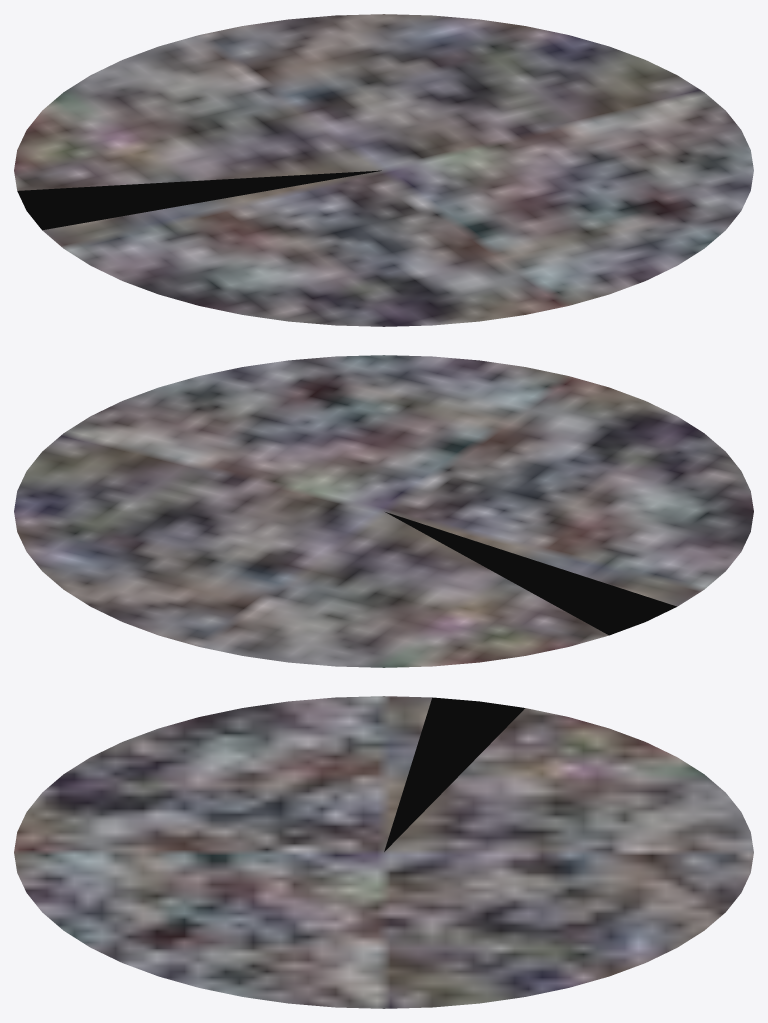
Rendered from original-8-bottom.obj.
3 views of the same model, one above another, from view 1: azimuth 30°, elevation 25°; view 2: azimuth 150°, elevation 25°; view 3: azimuth 270°, elevation 25° (orthographic).
Visible parts, largest first — view 1: group_2/ID2508#ID2508; view 2: group_2/ID2508#ID2508; view 3: group_2/ID2508#ID2508.
Boxes of the visible parts, bbox=[...] form: group_2/ID2508#ID2508: bbox=[14, 14, 753, 326]; group_2/ID2508#ID2508: bbox=[14, 355, 753, 667]; group_2/ID2508#ID2508: bbox=[14, 696, 753, 1008].
Bounding box in the file's own units: 1.18 × 0 × 1.18.
